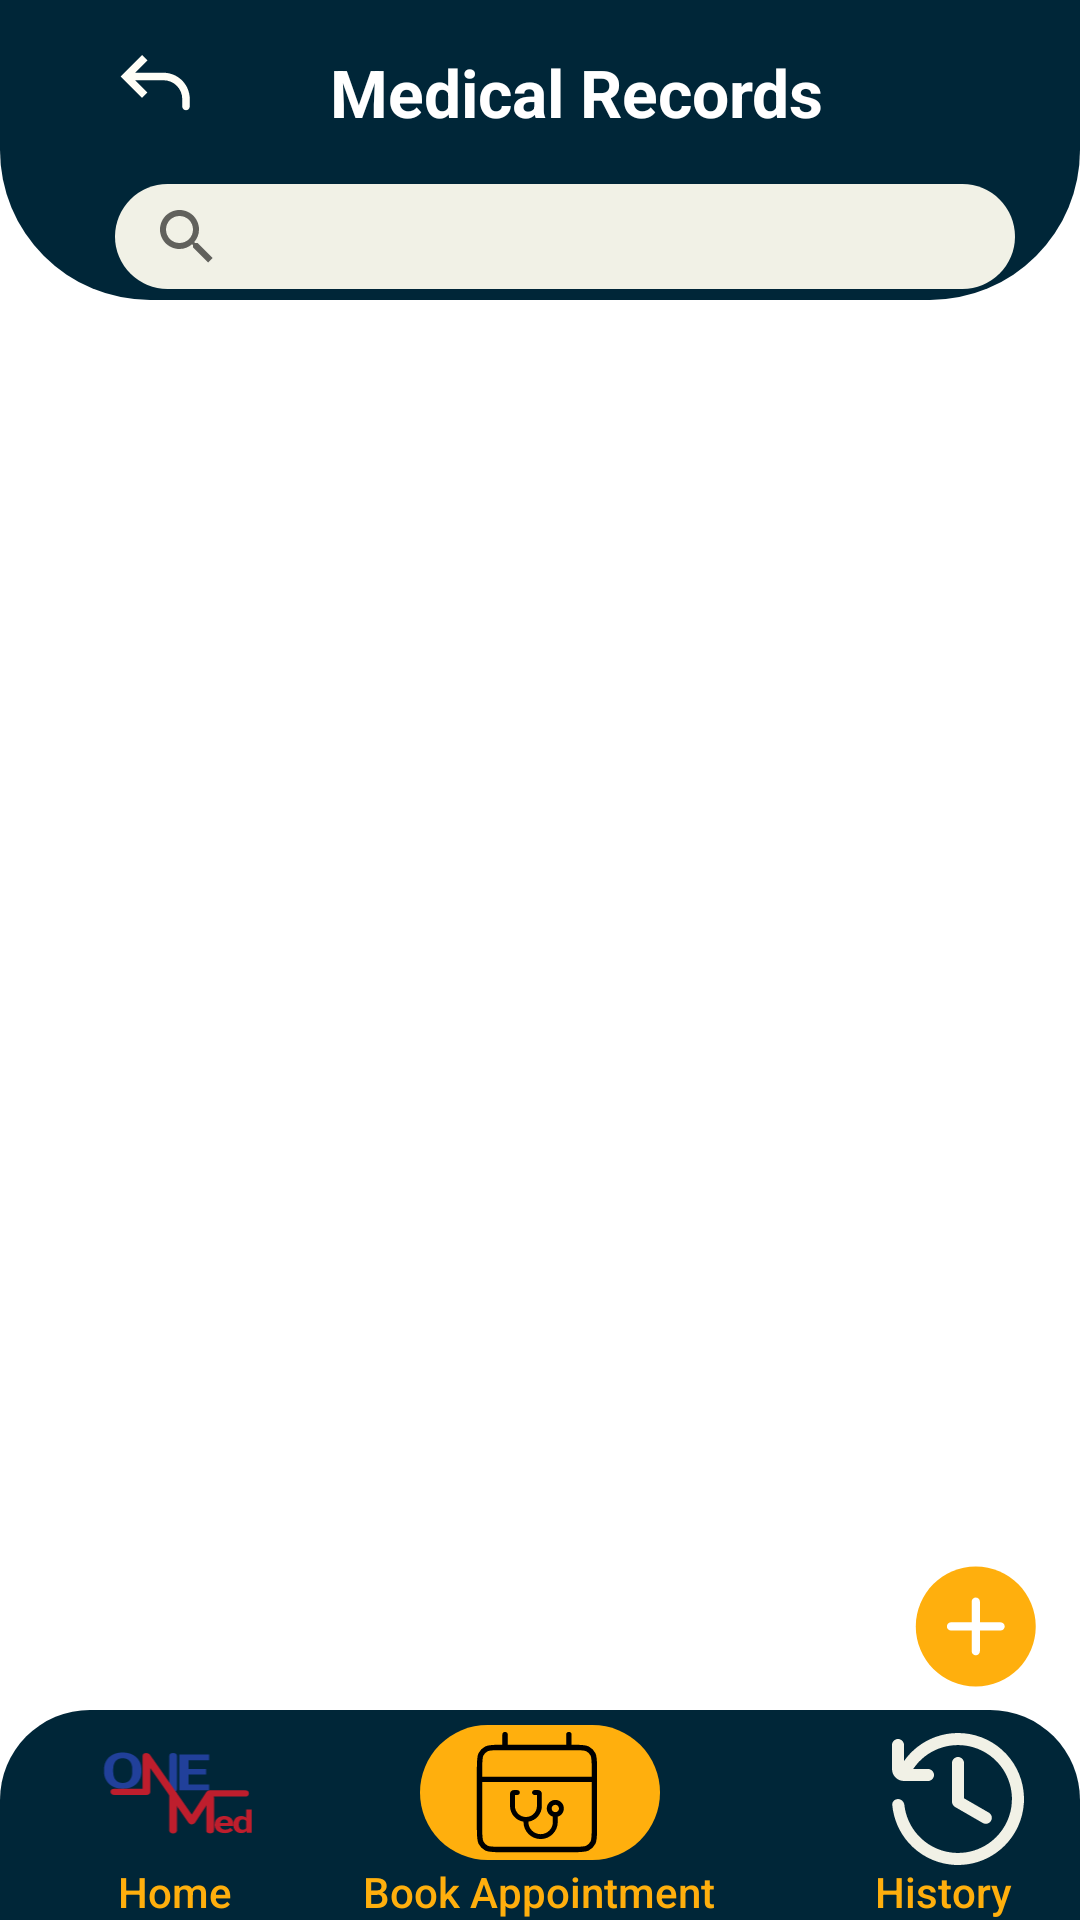

Point at icon controls on the screen. Image size 1080px×1920px, points as (x,y).
add medical records: (975,1626)
